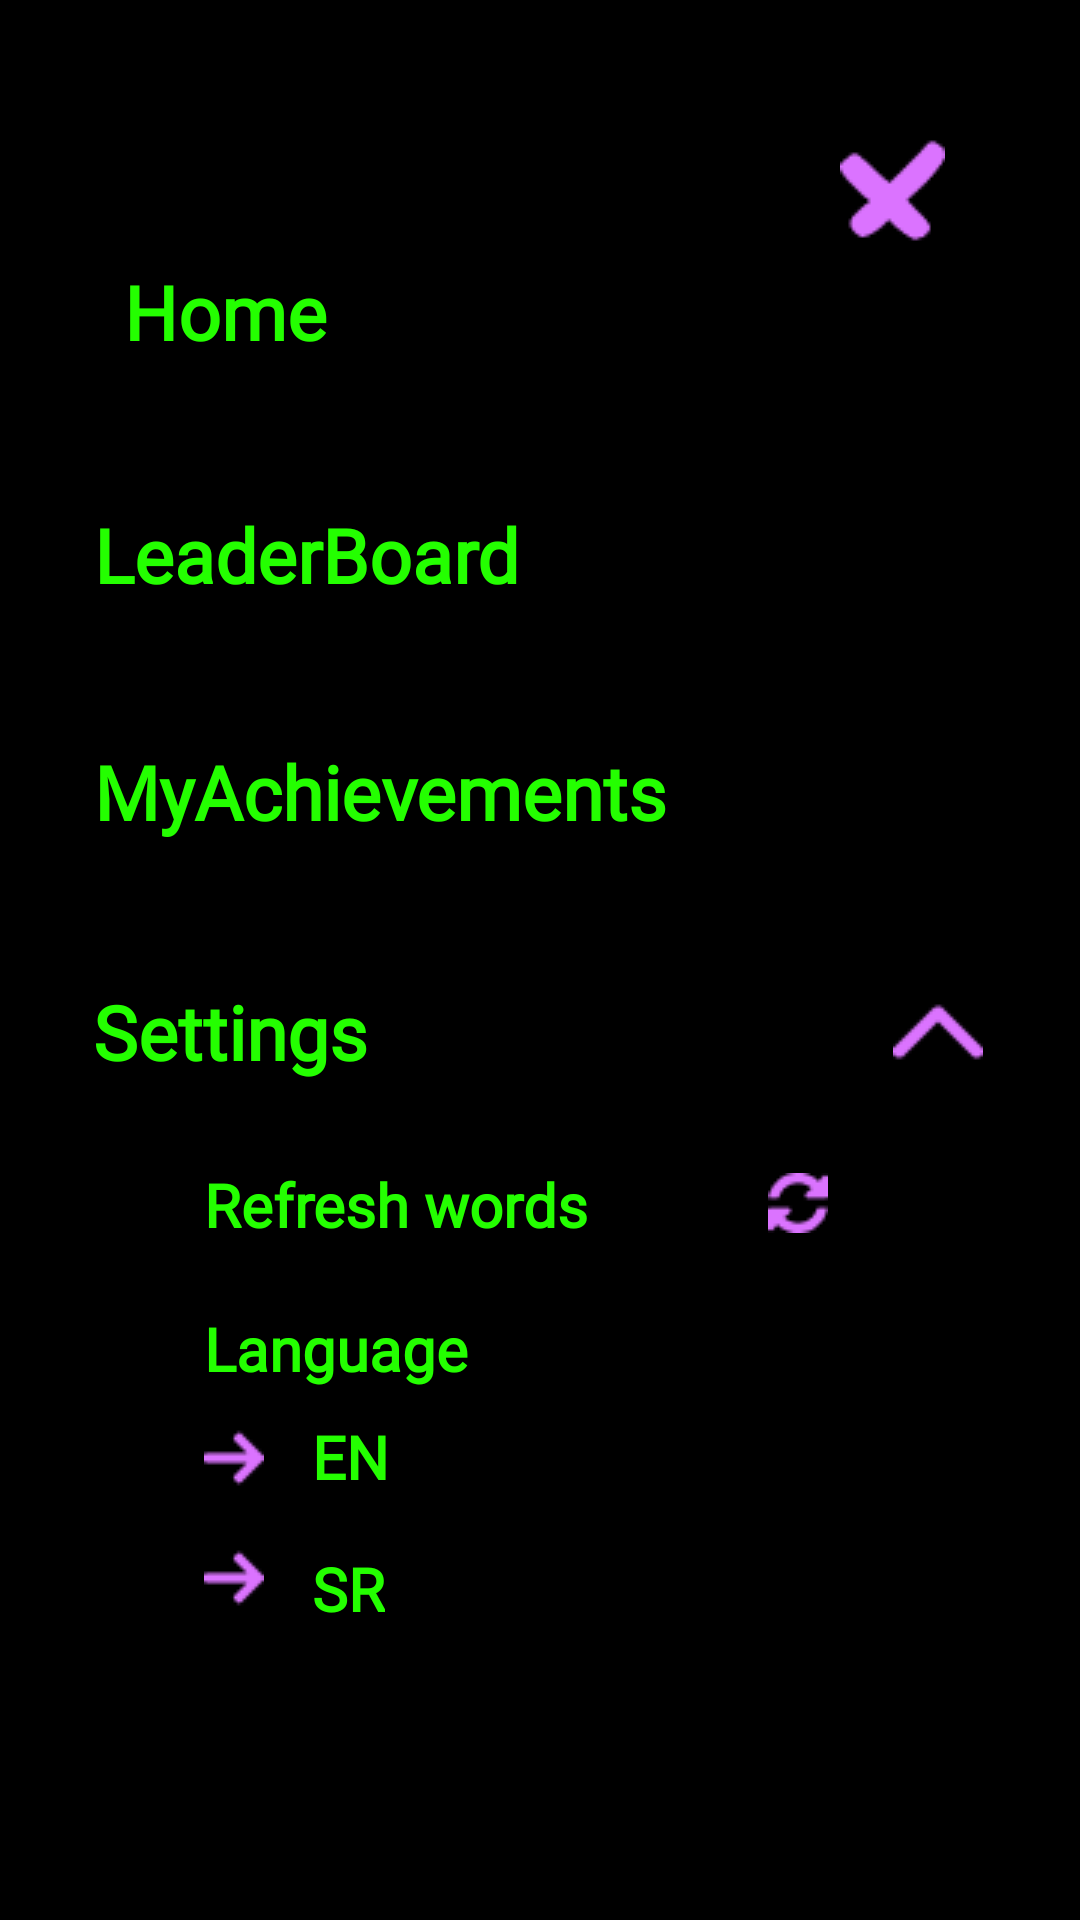

Point at icon controls on the screen. Image size 1080*1920, points as point (x, y).
exit: point (892, 190)
refresh: point (798, 1203)
